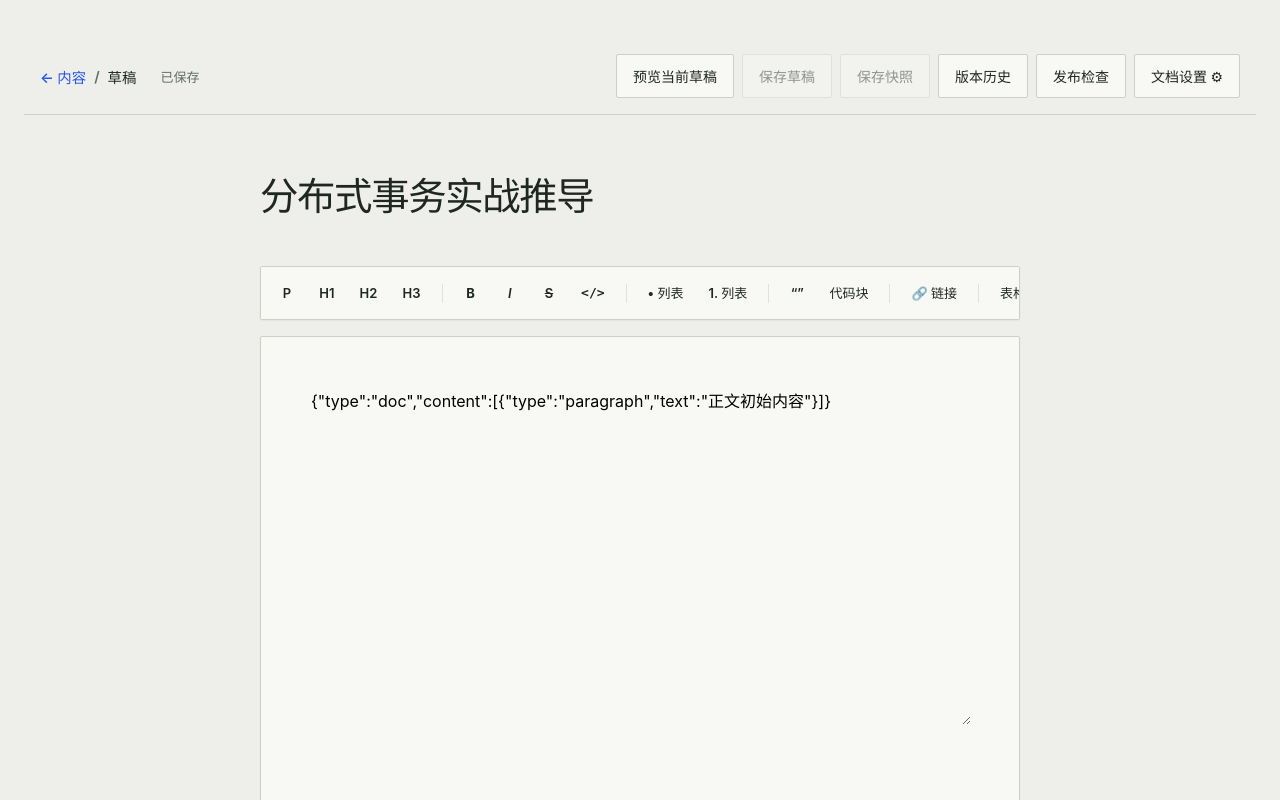
知识库体验优化 最终综合验收套件 (6大场景全覆盖) › 场景 6: 公共输入弹窗与键盘/响应式细节 › 右侧属性面板具备 3 大折叠分组，支持分类、标签、Slug 与版本历史无冲突管理
The image size is (1280, 800).
Note: 打开文档设置面板
What coordinates should you click on to do the following:
click the button titled "切换右侧属性设置面板"
I would click on:
 (1187, 76)
Its box is [1134,54,1240,98].
(page scrolled)
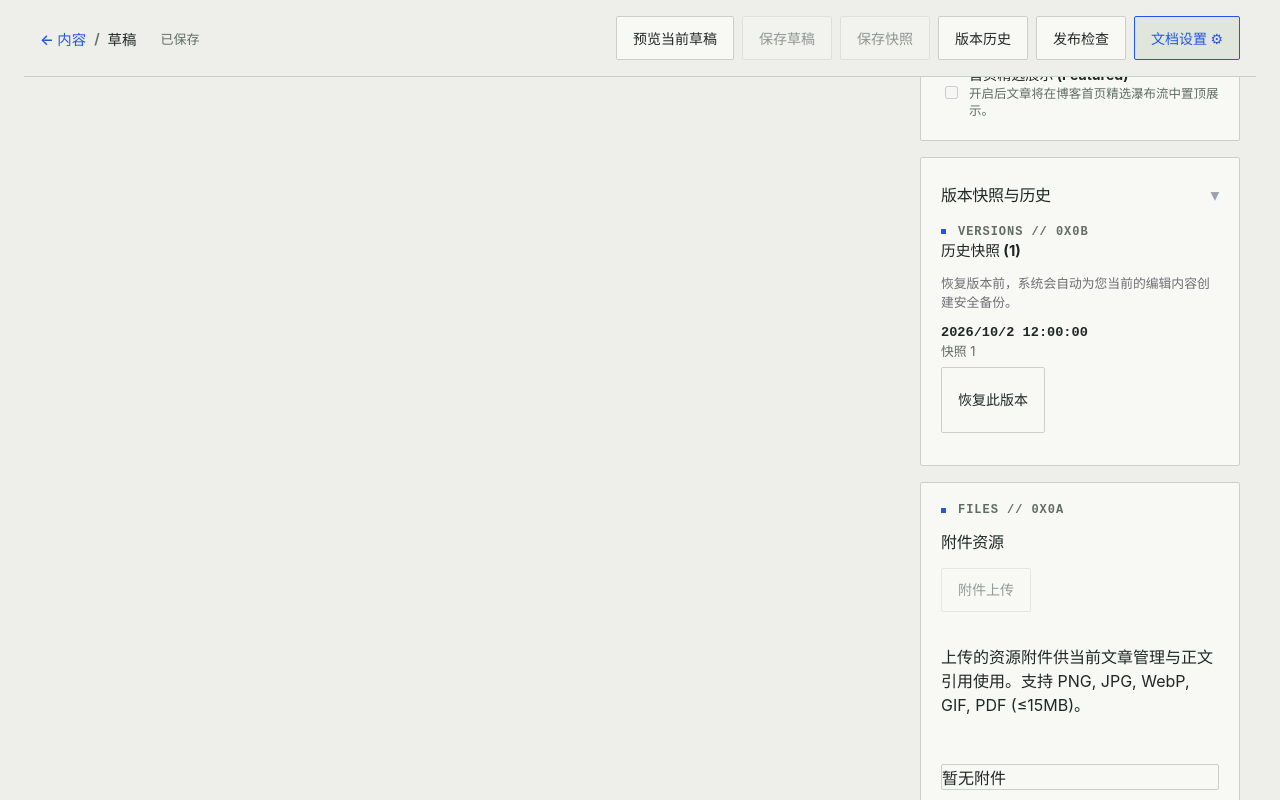
expect the text "版本快照与历史" is shown: met, box [941,183,1051,207]
expect the heading "历史快照 (1)" is shown: met, box [941,242,1021,260]
expect the button "恢复此版本" is shown: met, box [941,367,1045,433]
